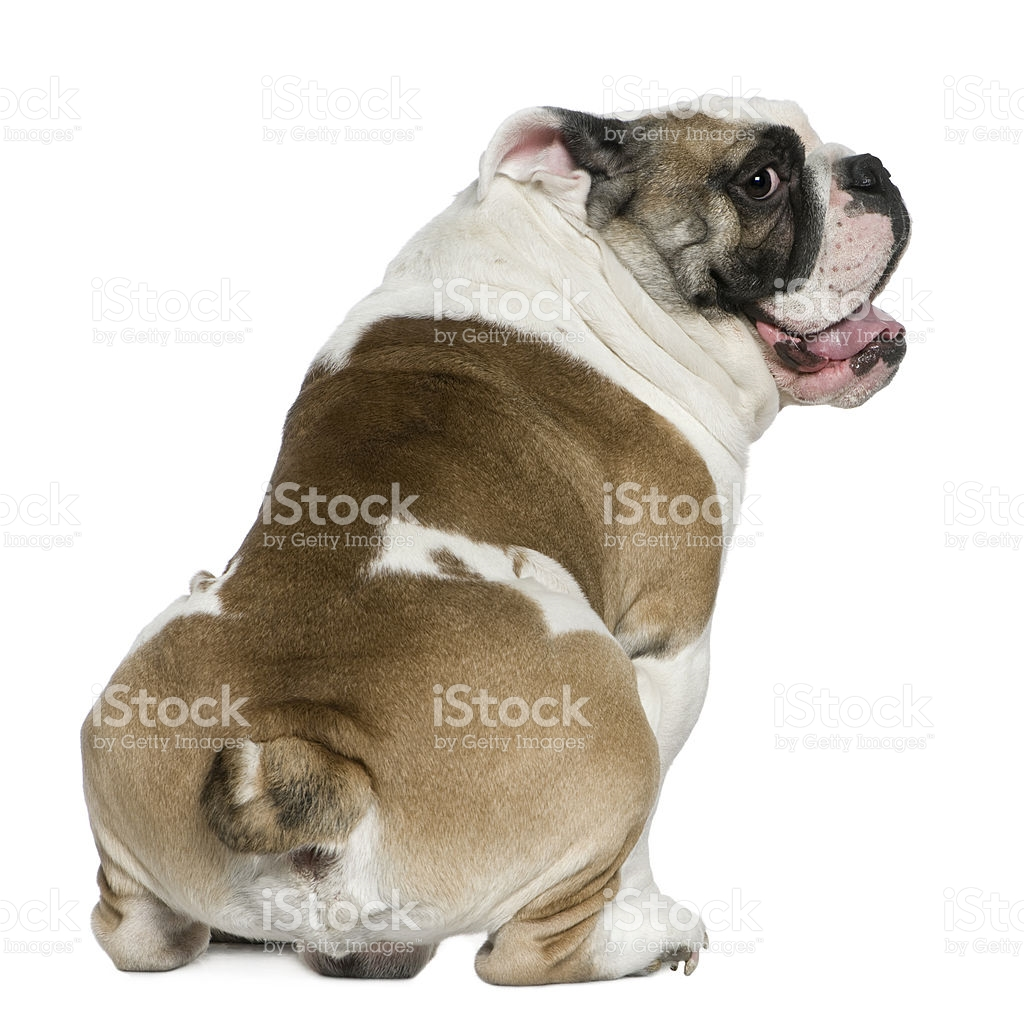dog: (68, 92, 914, 989)
